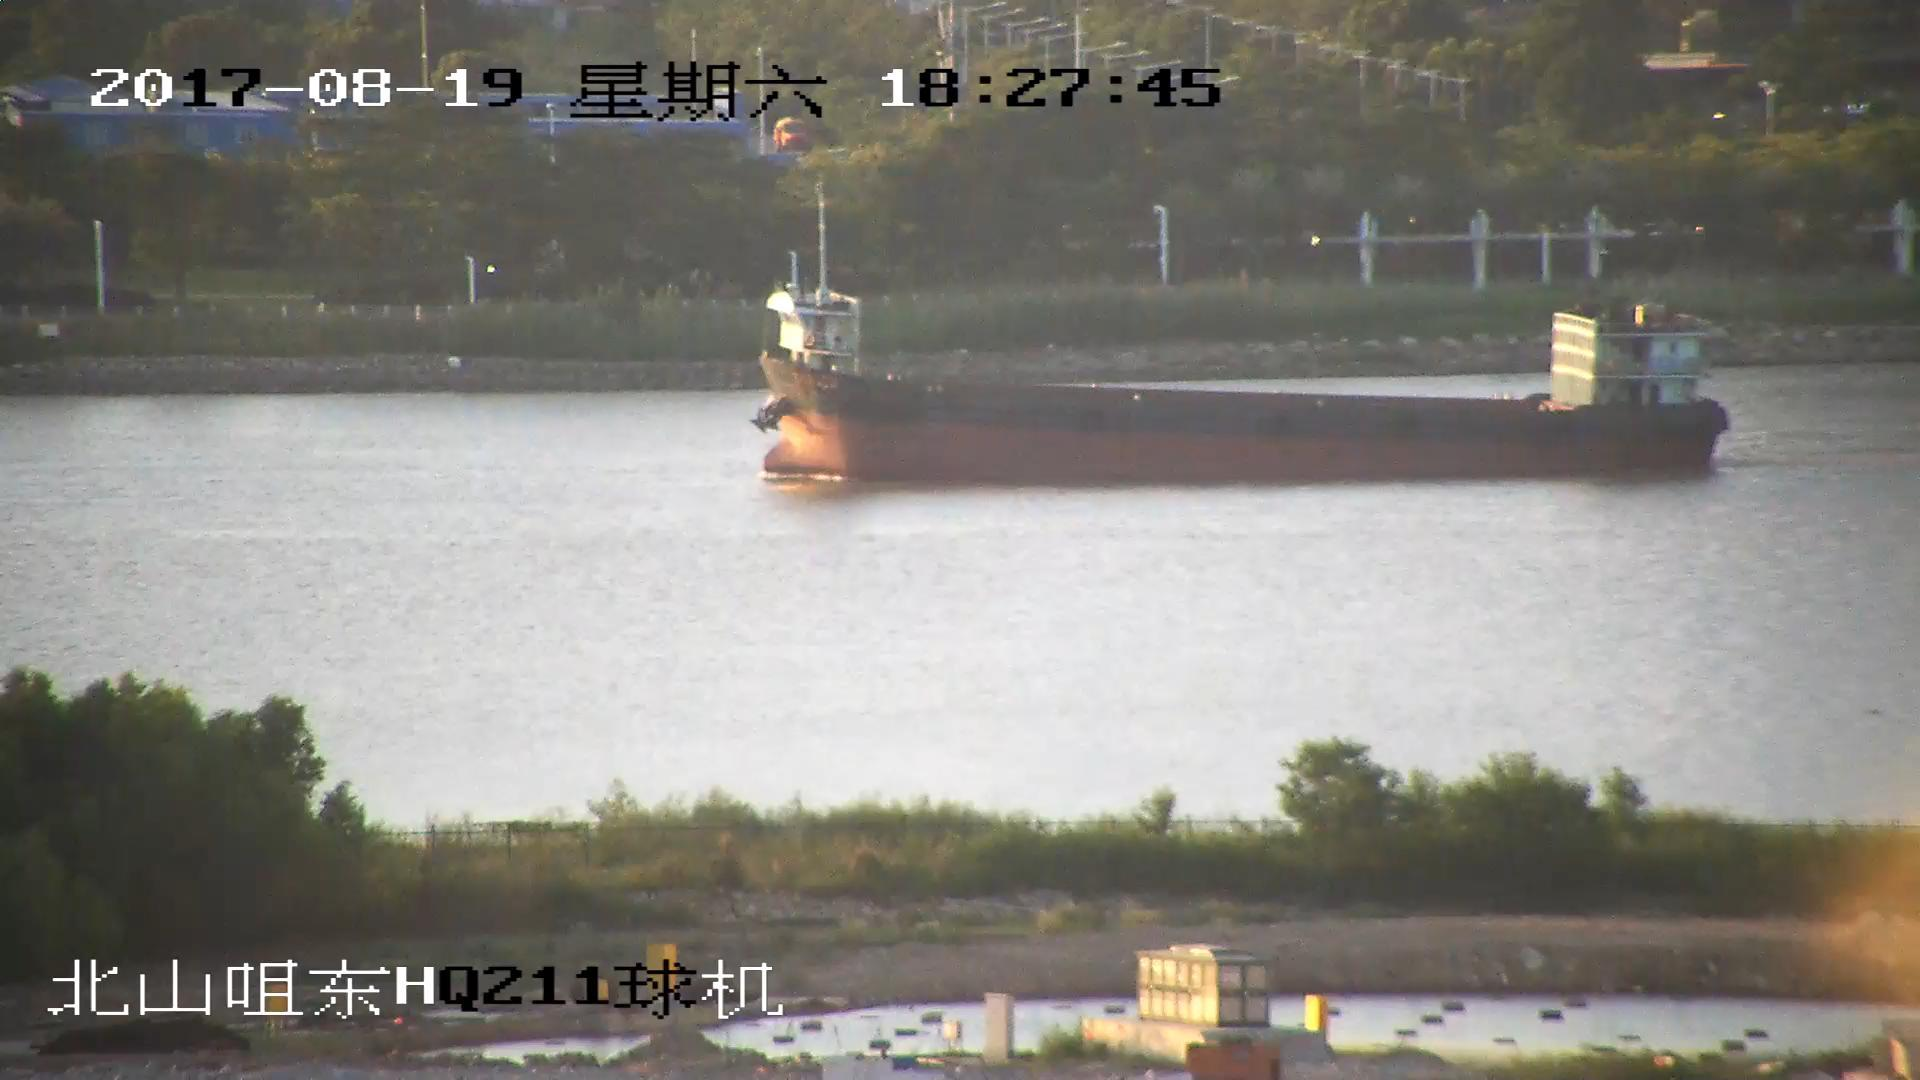Ship: (754, 284, 1726, 473)
